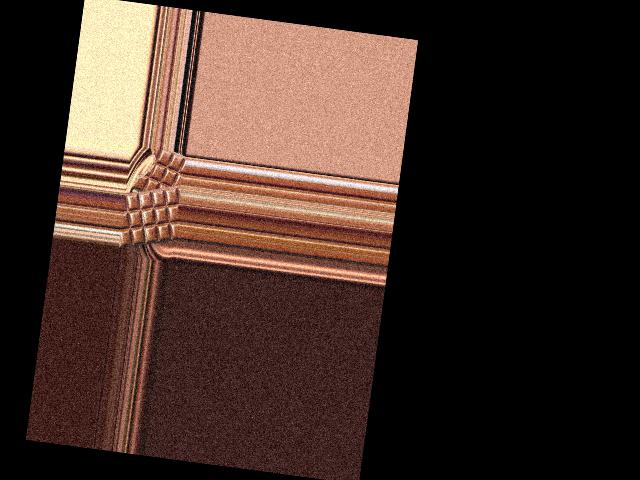chocolate: (119, 177, 183, 256)
